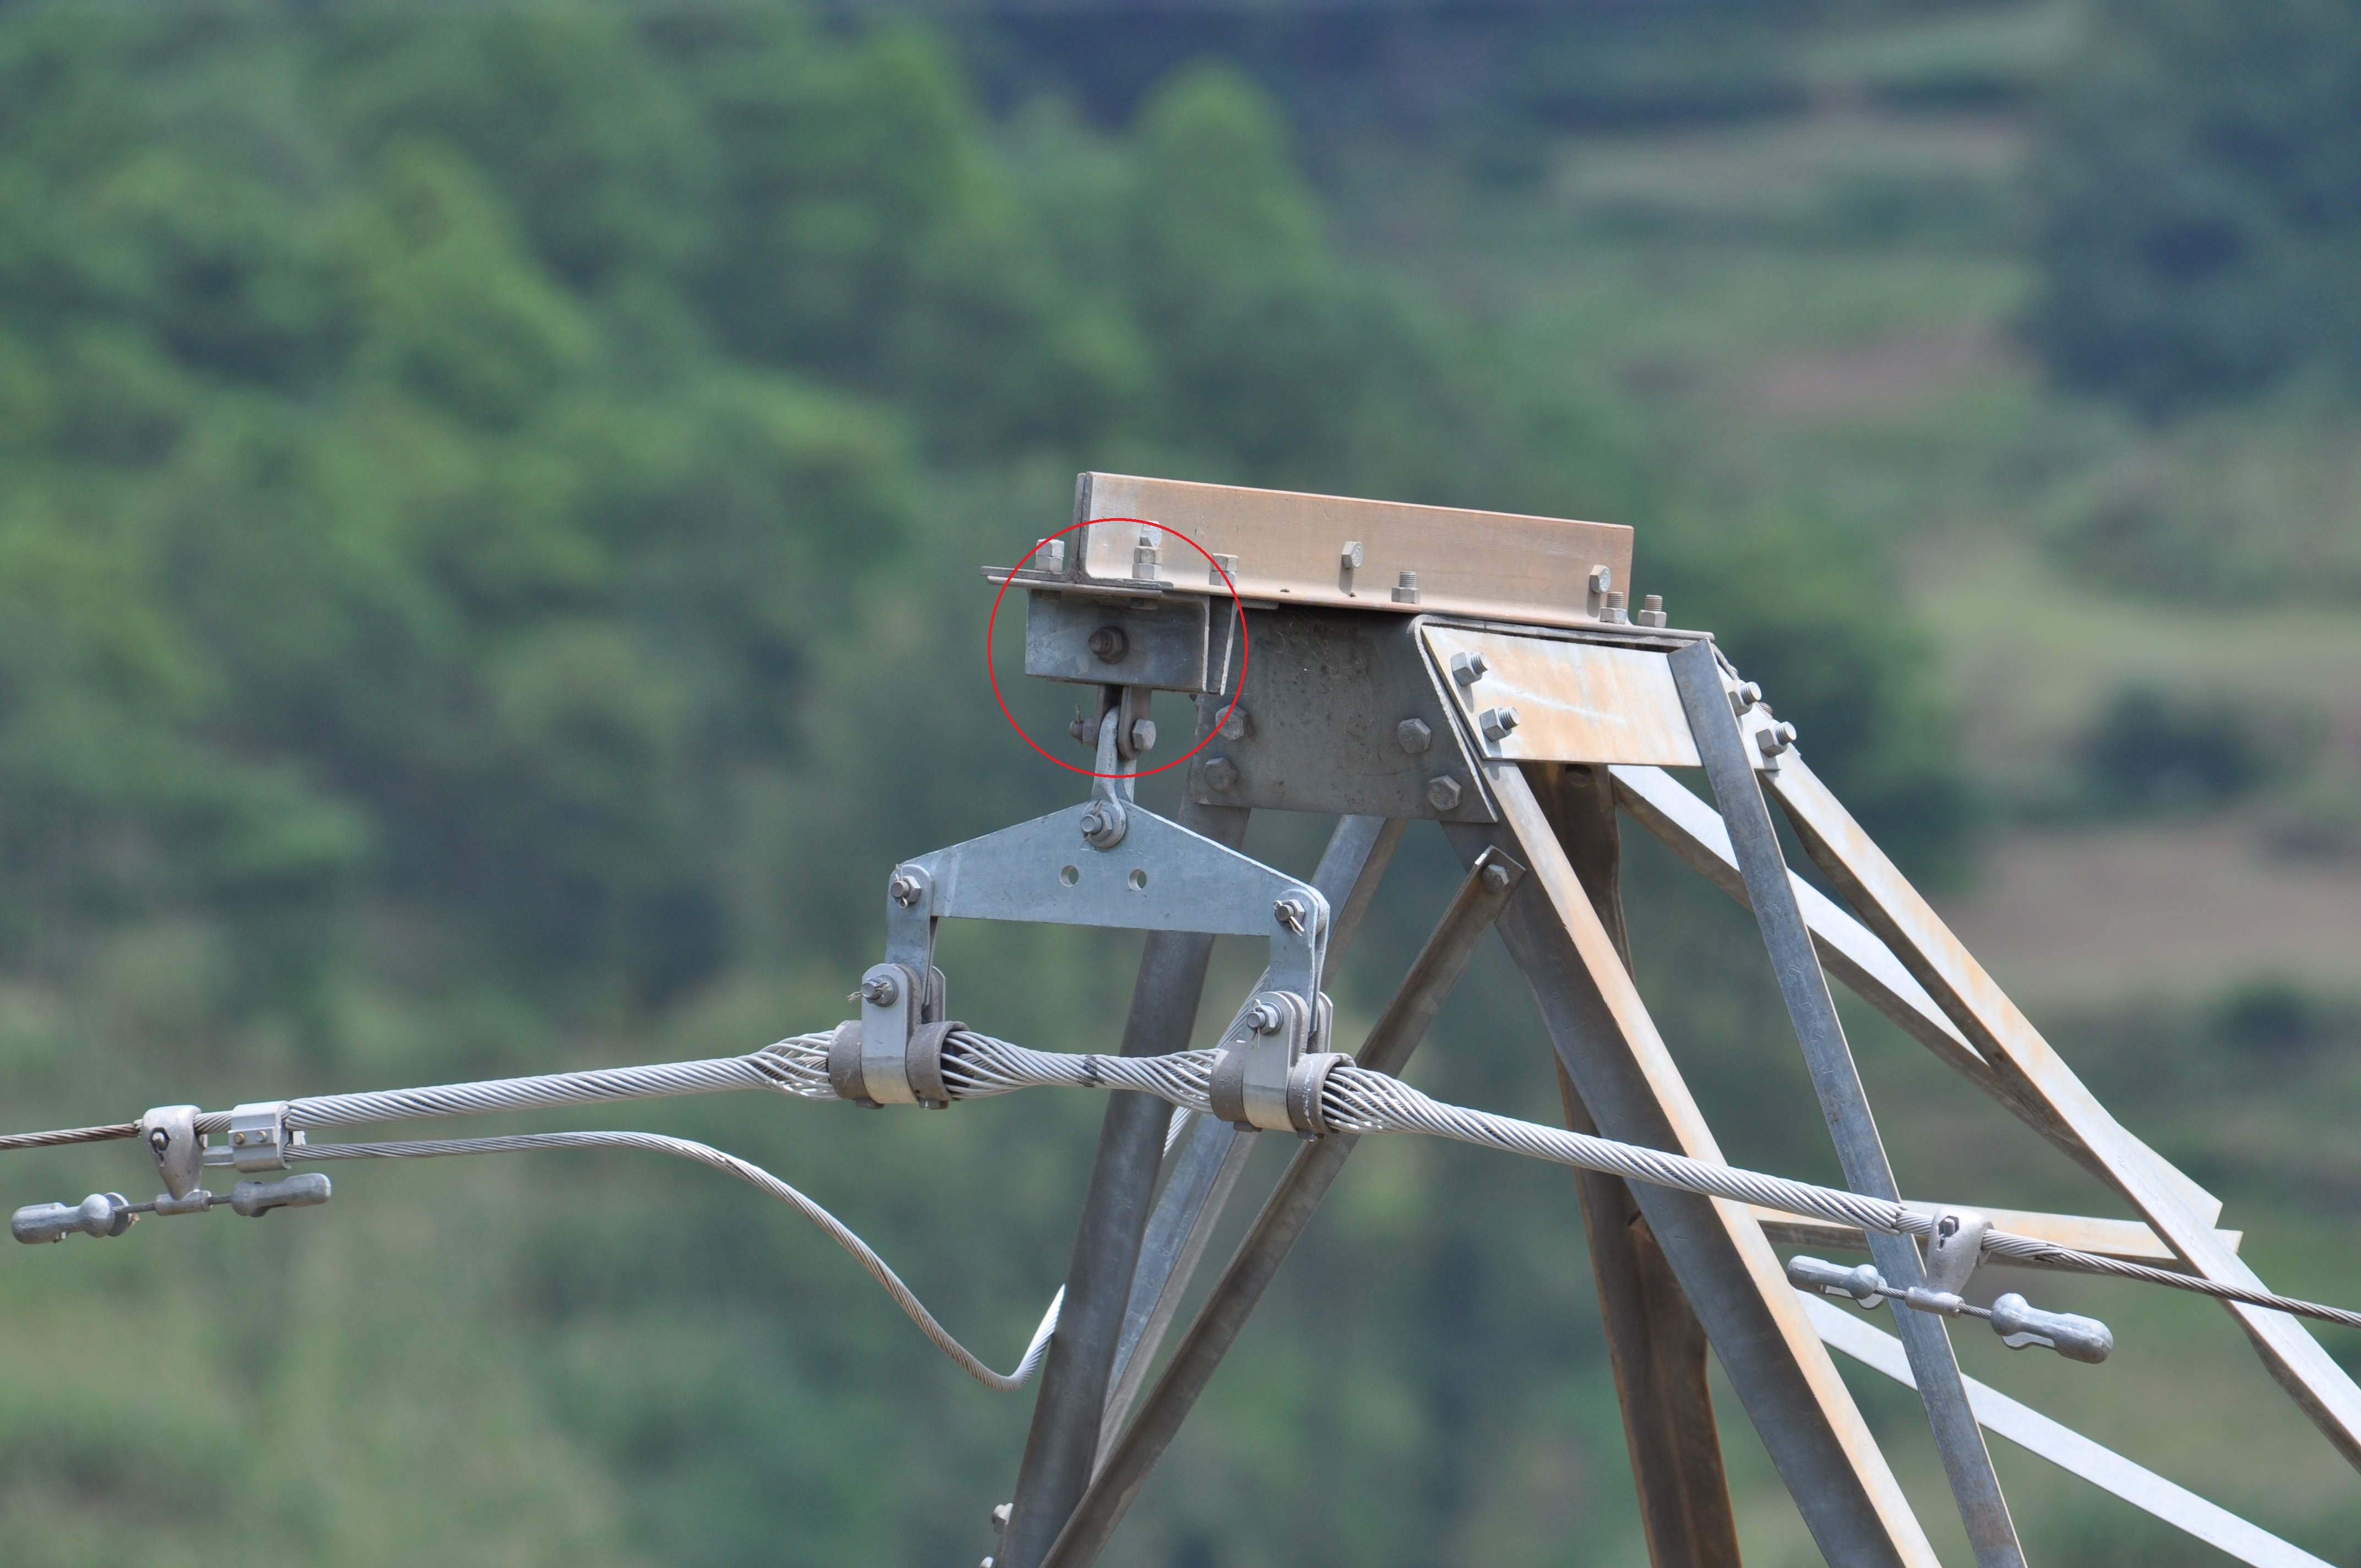parallel groove clamp: (217, 1101, 310, 1172)
pre-twisted suspension clamp: (749, 959, 1024, 1136), (1153, 985, 1416, 1150)
shockproof hammer: (1785, 1199, 2118, 1365), (5, 1099, 336, 1262)
u-type hanging ring: (1080, 710, 1136, 850)
yoke plate: (889, 798, 1332, 941)
